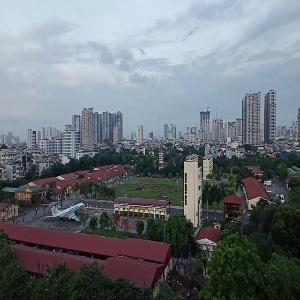drone: (85, 118, 136, 169)
